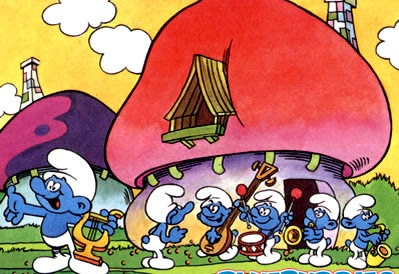smurf: (1, 147, 120, 274), (134, 181, 193, 271), (237, 186, 293, 265), (192, 185, 246, 262), (341, 190, 390, 270), (299, 190, 342, 267)
